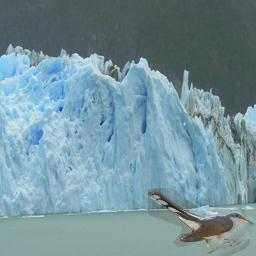Cuckoo: (148, 188, 254, 256)
